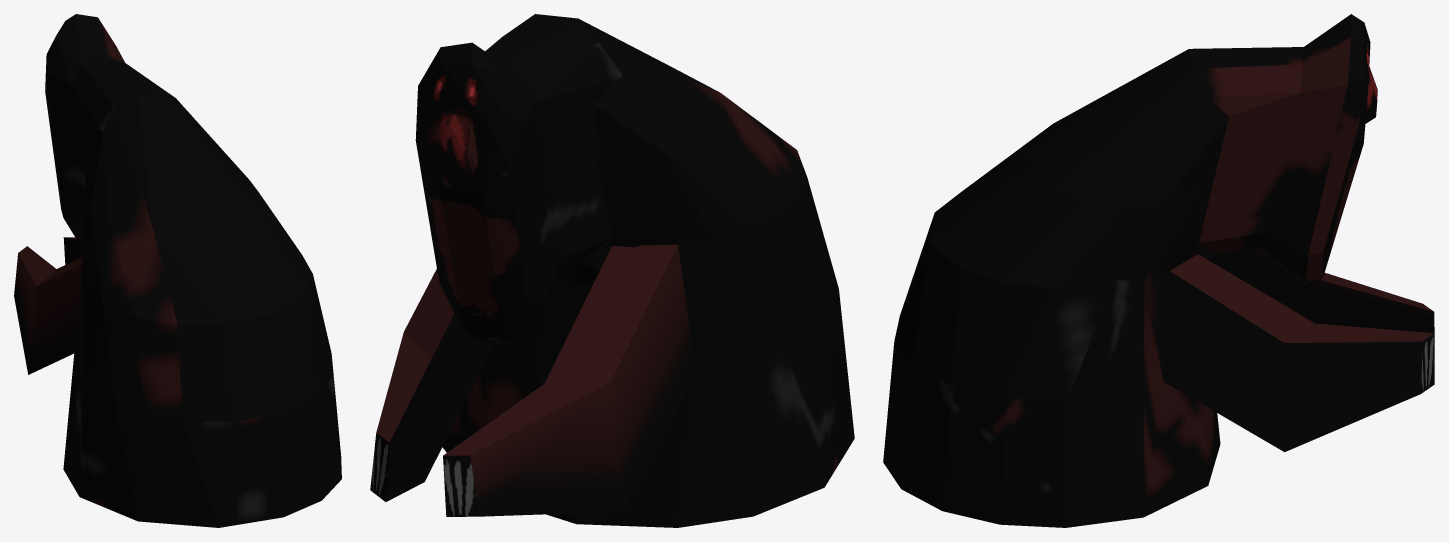
The model's file is APPLIED DECIMATOR THE GHOSTY.fbx.
3 renders of one model, left to right at view 1: azimuth 30°, elevation 25°; view 2: azimuth 150°, elevation 25°; view 3: azimuth 270°, elevation 25°, orthographic. The views are drawn at different scales.
Visible parts, largest first — view 1: Circle; view 2: Circle; view 3: Circle.
Boxes of the visible parts, x1,y1,x2,y2 form: Circle: [14, 14, 341, 527]; Circle: [370, 14, 854, 527]; Circle: [883, 14, 1434, 527].
Size of the model in its own units: 201 by 288 by 327.
